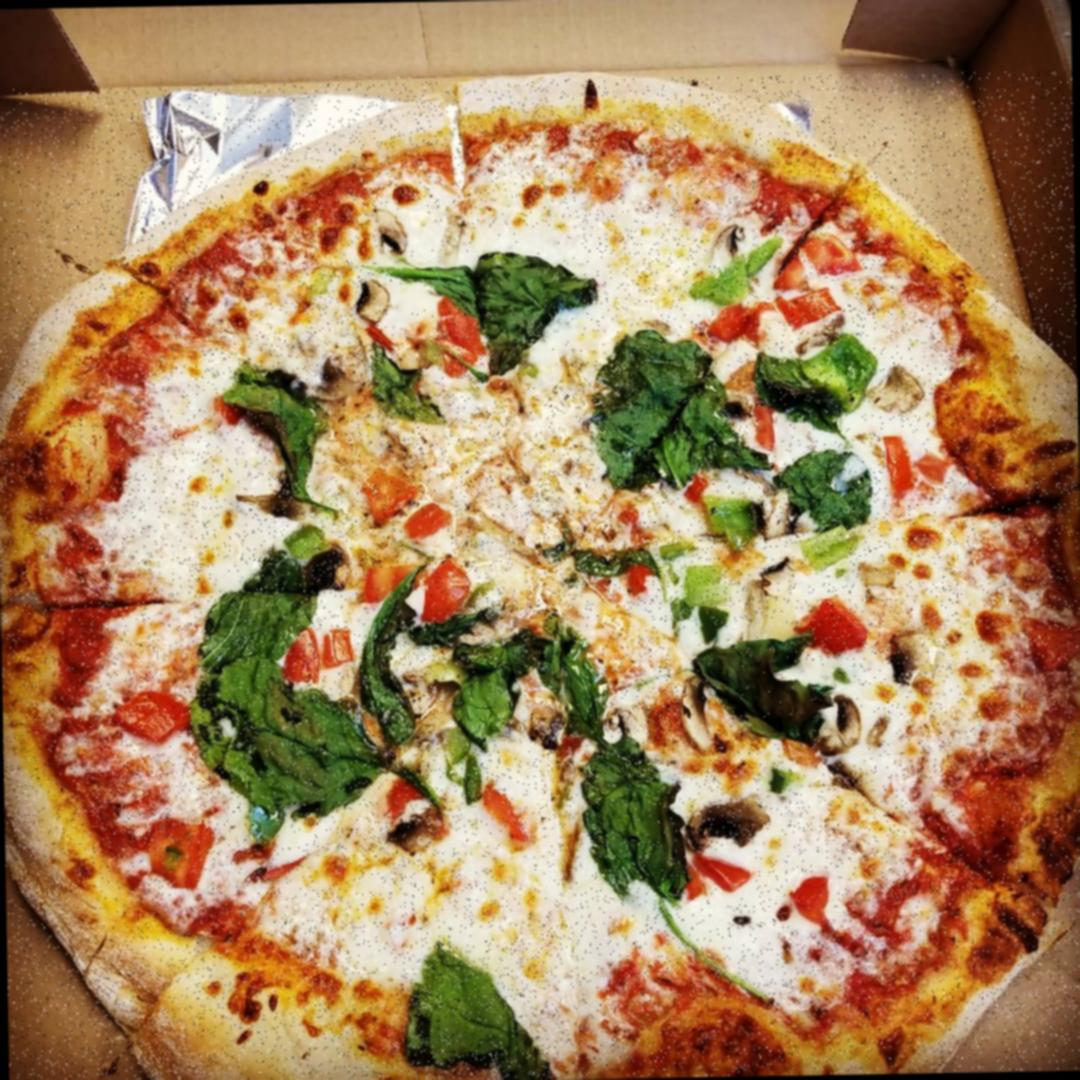Basil: (181, 532, 391, 820), (394, 228, 584, 394), (595, 326, 737, 481), (393, 940, 539, 1080), (682, 625, 855, 742), (434, 620, 603, 739), (574, 736, 694, 895), (224, 368, 321, 506), (763, 446, 853, 543), (758, 343, 882, 397)
Mushroom: (884, 632, 944, 695), (820, 687, 872, 759), (688, 801, 766, 842), (871, 370, 930, 416), (377, 202, 417, 266), (705, 217, 754, 267), (356, 284, 396, 334)
Pizza: (0, 71, 1080, 1080)
Tomatoes: (436, 302, 498, 392), (790, 597, 874, 663), (111, 686, 187, 754), (148, 815, 210, 889), (774, 232, 851, 288), (686, 841, 754, 900), (360, 471, 422, 529), (477, 791, 534, 854), (286, 625, 330, 698), (710, 305, 776, 351), (774, 292, 840, 334), (616, 503, 648, 589), (357, 567, 424, 607), (887, 434, 924, 506), (748, 400, 786, 462), (404, 500, 449, 550), (425, 562, 461, 623), (793, 874, 829, 930), (359, 329, 410, 360), (319, 628, 352, 674), (688, 473, 720, 506), (916, 454, 950, 484)
